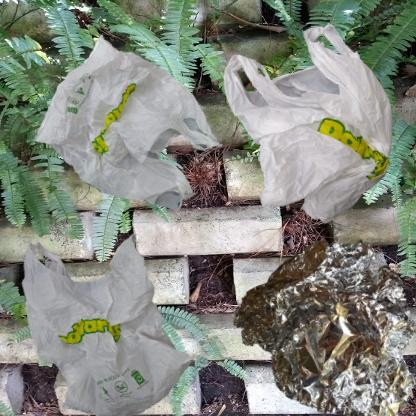aluminio: (213, 213, 416, 416)
bolsa: (10, 10, 248, 256), (213, 10, 416, 262), (10, 213, 213, 416)
